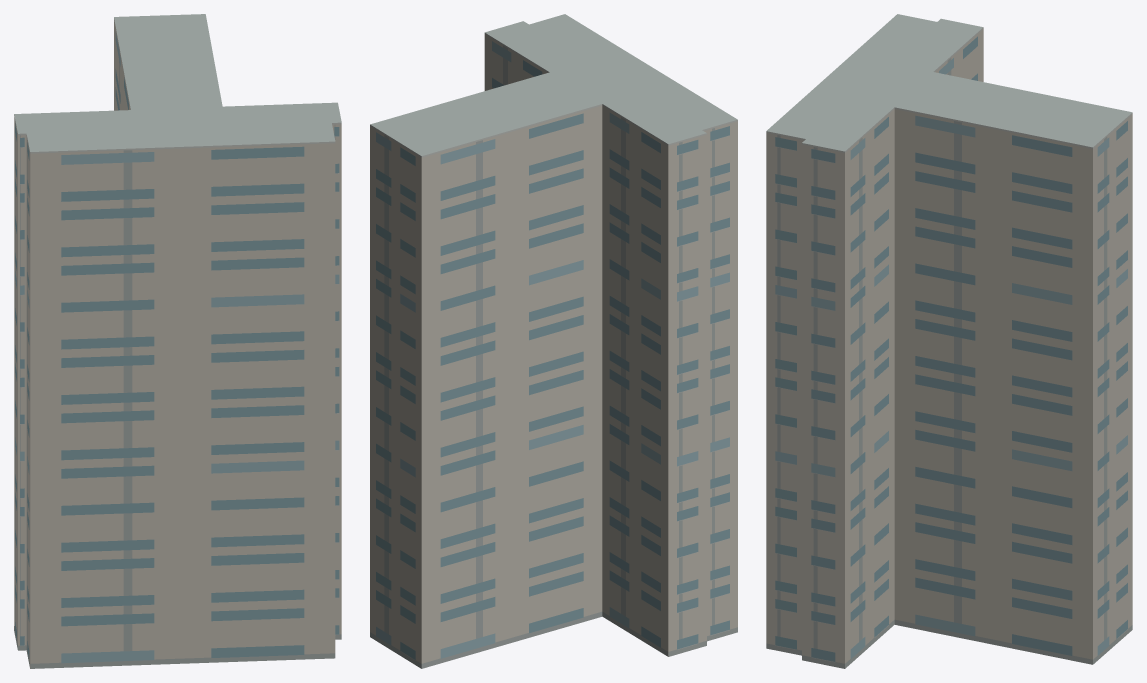
File: residential-f1290d9e-8fb3-4d06-9cde-654603528257.glb
The picture shows the model from 3 angles, left to right: view 1: azimuth 30°, elevation 25°; view 2: azimuth 150°, elevation 25°; view 3: azimuth 270°, elevation 25°; orthographic projection.
Visible parts, largest first — view 1: residential-f1290d9e-8fb3-4d06-9cde-654603528257.tmp; view 2: residential-f1290d9e-8fb3-4d06-9cde-654603528257.tmp; view 3: residential-f1290d9e-8fb3-4d06-9cde-654603528257.tmp.
Boxes of the visible parts, x1,y1,x2,y2 form: residential-f1290d9e-8fb3-4d06-9cde-654603528257.tmp: [14, 14, 341, 668]; residential-f1290d9e-8fb3-4d06-9cde-654603528257.tmp: [370, 14, 737, 668]; residential-f1290d9e-8fb3-4d06-9cde-654603528257.tmp: [766, 14, 1132, 668].
Bounding box in the file's own units: 45.05 × 79 × 50.73.
